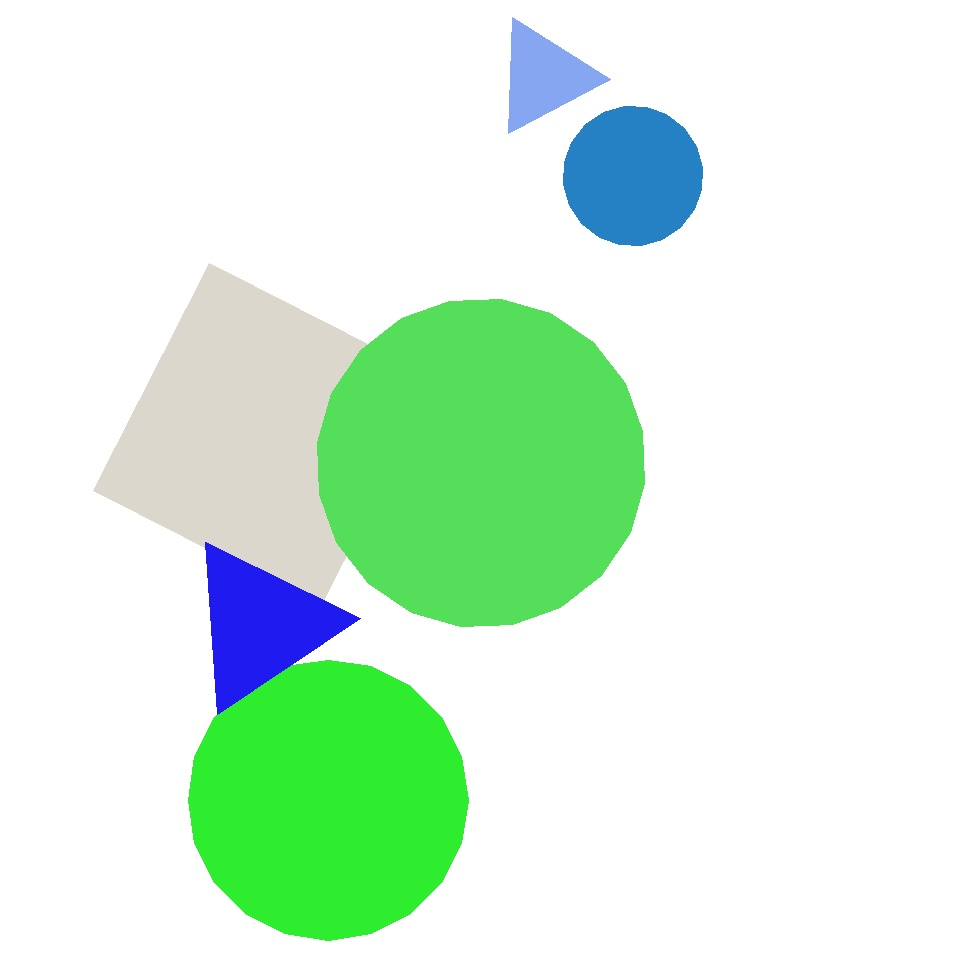circle: (183, 539, 338, 711), (575, 284, 695, 412), (493, 19, 595, 135)
square: (94, 264, 436, 606), (598, 90, 894, 386)
triangle: (318, 300, 644, 626), (338, 402, 626, 690), (188, 660, 468, 940), (286, 502, 556, 772), (564, 106, 702, 246)
